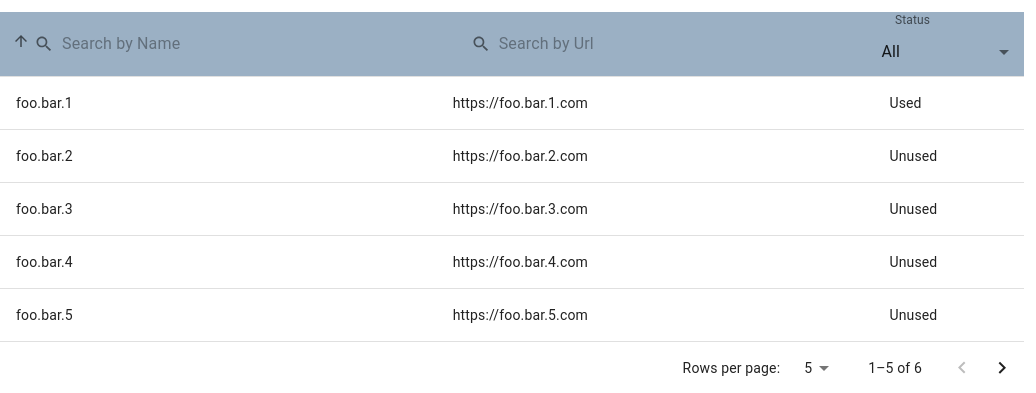
Test: Table Sorting › should sort by name descending
This screenshot has width=1036, height=393.
Click the button named "Sort by Name Descending".
click(21, 41)  # box [12,32,30,50]
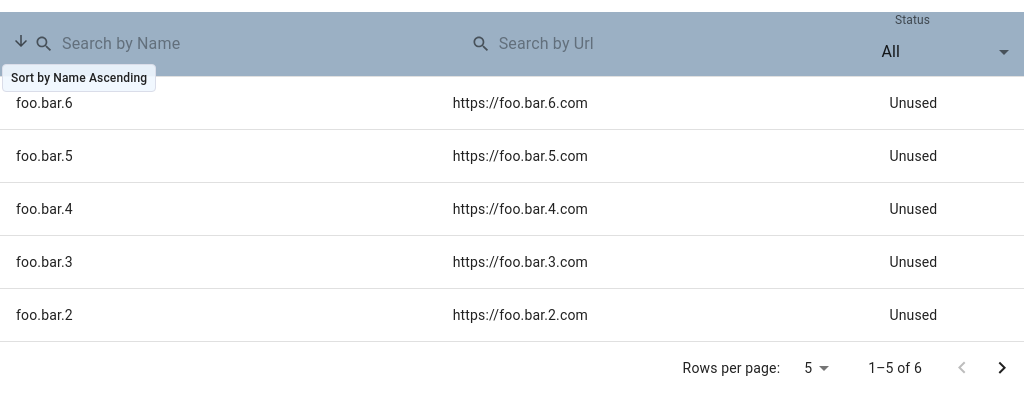
Expected: the number of rows is 6, [0,12,1024,76]; [0,76,1024,130]; [0,130,1024,182]; [0,182,1024,236]; [0,236,1024,288]; [0,289,1024,342]
Now the row "foo.bar.6 https://foo.bar.6.com Unused" is shown, box [0,76,1024,130]
